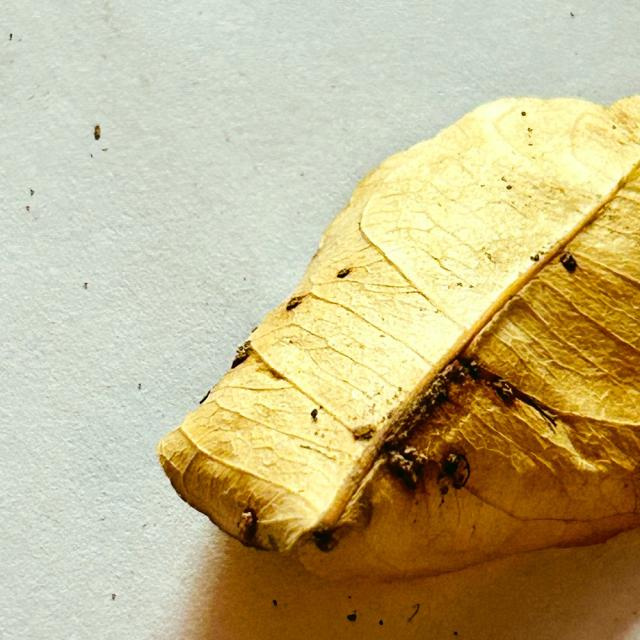DryLeaf_Lemon: (158, 96, 639, 580)
